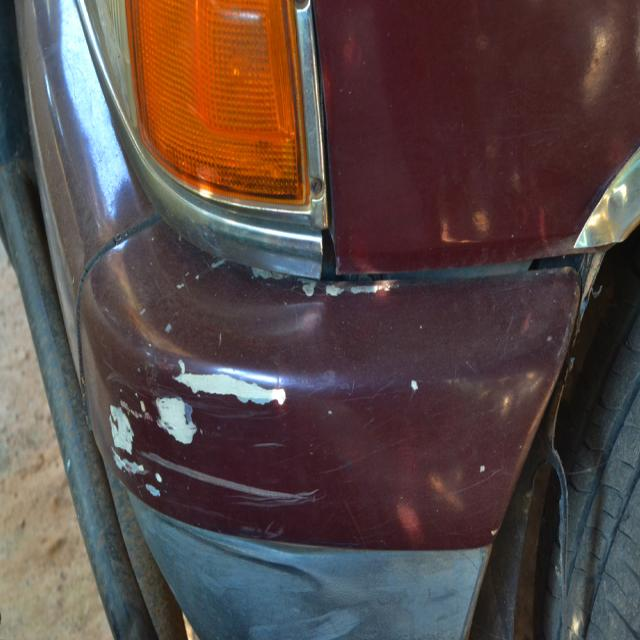scratch: (103, 361, 425, 519)
